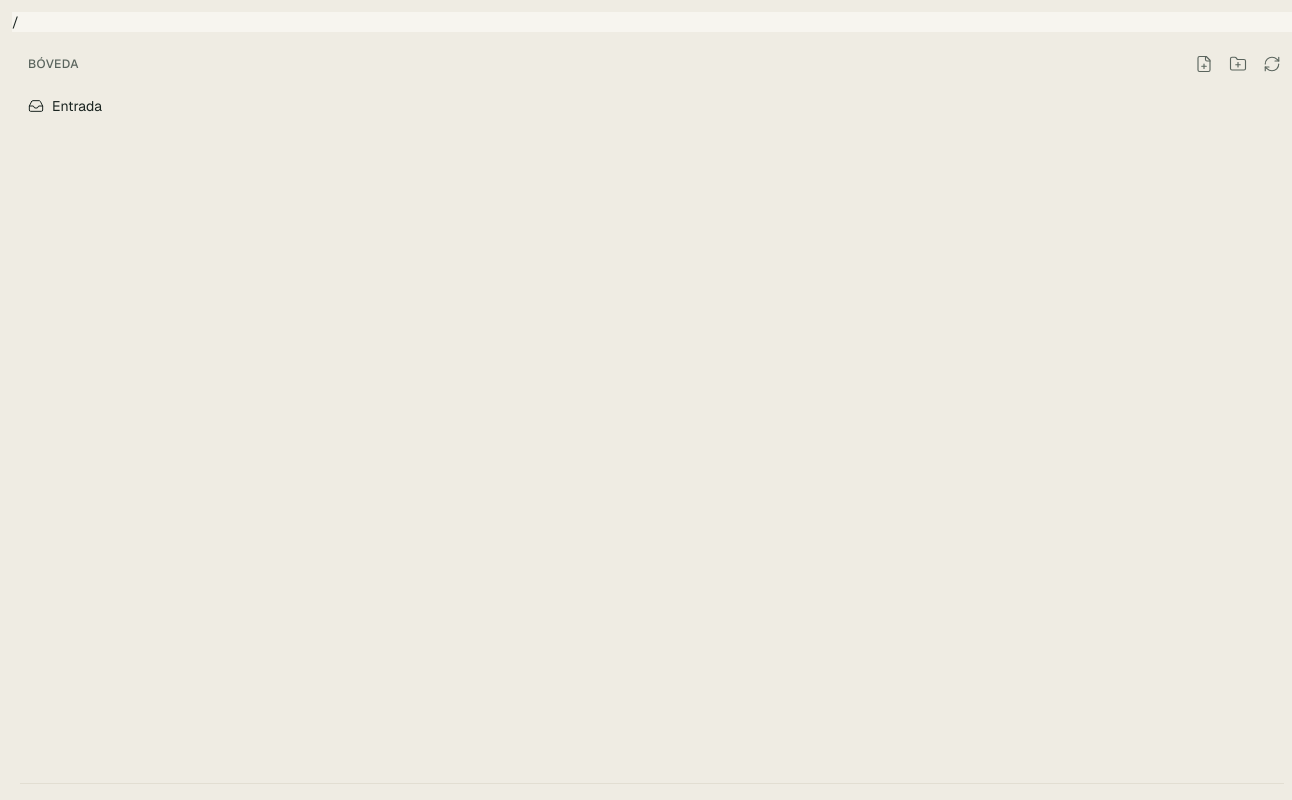
nueva nota sin nombre › crea Sin título en la raíz sin abrir diálogo y abre la nota
The image size is (1292, 800).
Click the button with test id "new-note-btn": (1204, 64) [1188,48,1220,80]
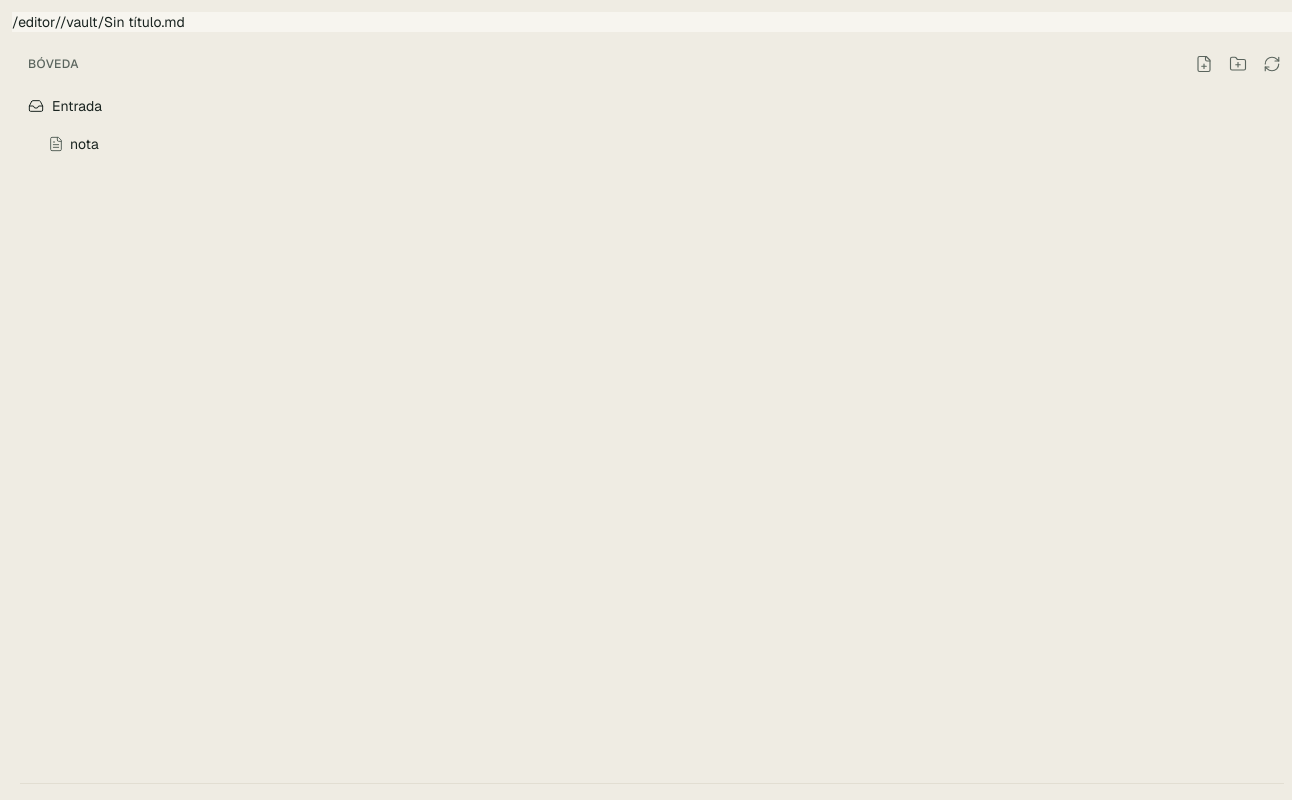
Check: the text with test id "where" reads "/editor//vault/Sin título.md", box [12,13,185,31]
